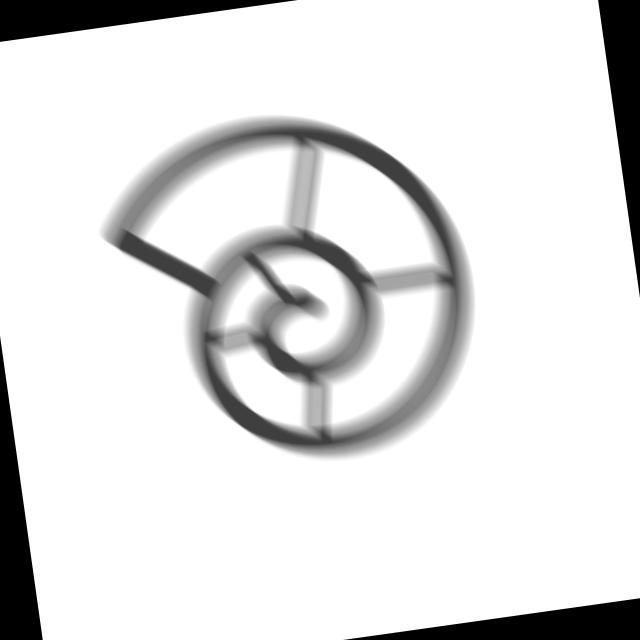fossil: (80, 83, 503, 498)
